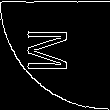M_E: (30, 32, 80, 78)
